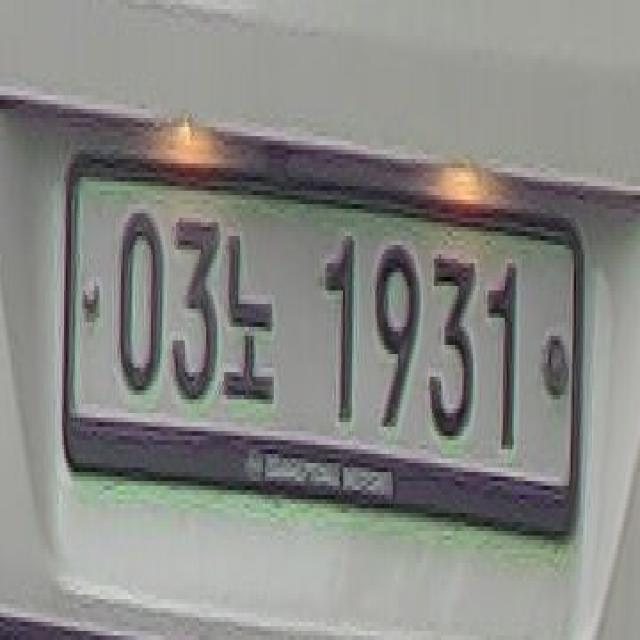0: (112, 203, 164, 407)
1: (490, 257, 534, 466), (325, 223, 357, 436)
3: (428, 244, 489, 454), (170, 206, 223, 422)
9: (372, 233, 424, 450)
license_plate: (38, 128, 594, 582)
no: (226, 222, 284, 432)
